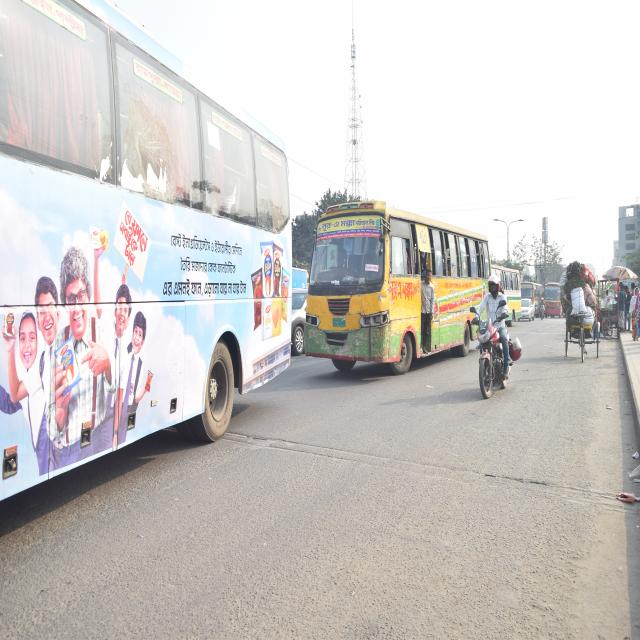bus: (0, 0, 294, 520), (310, 200, 488, 374), (490, 261, 522, 319), (543, 279, 563, 318), (523, 275, 541, 302)
motorbike: (464, 296, 515, 409), (538, 298, 546, 320)
